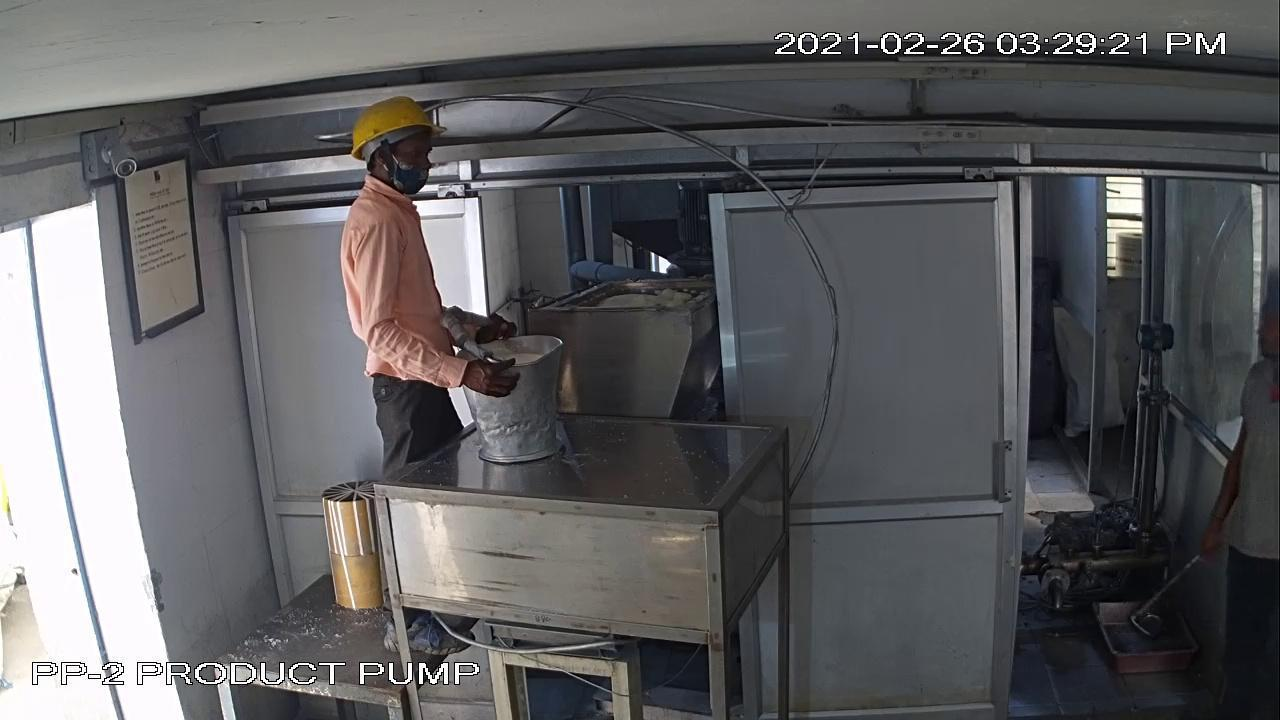helmet: (344, 94, 449, 159)
